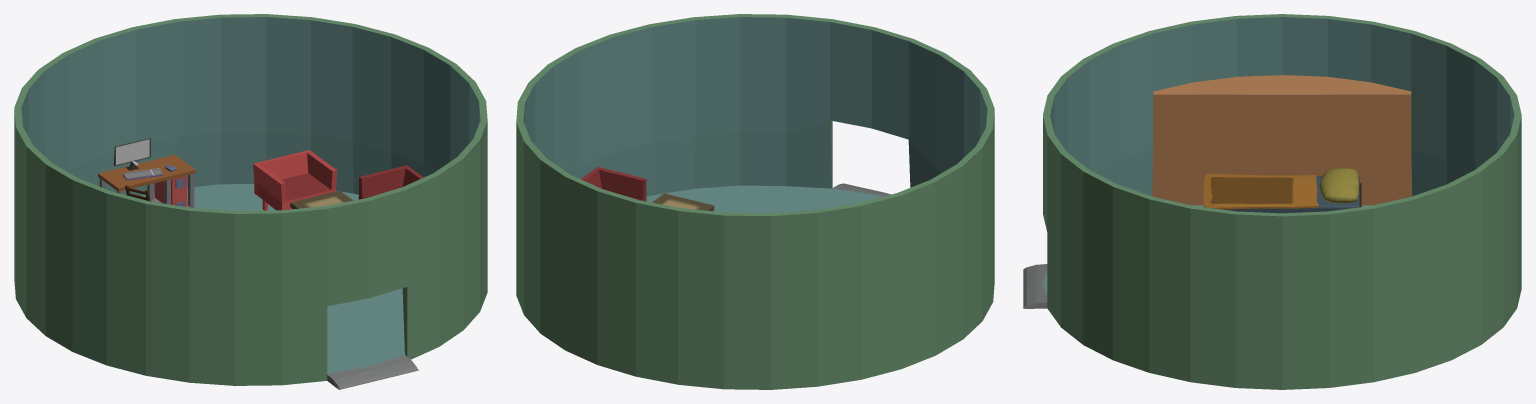
File: Indoor_Mesh.fbx
The picture shows the model from 3 angles, left to right: view 1: azimuth 30°, elevation 25°; view 2: azimuth 150°, elevation 25°; view 3: azimuth 270°, elevation 25°; orthographic projection.
Visible parts, largest first — view 1: HomeWall, Chair_TamuSmall, PC_Table, Chair_TamuBig, PC_Monitor, PC_CPU, Table_Tamu; view 2: HomeWall, Chair_TamuBig, Table_Tamu; view 3: HomeWall, Blanket, Pillow, Bed.
Boxes of the visible parts, x1,y1,x2,y2 form: HomeWall: [14, 14, 487, 389]; Chair_TamuSmall: [253, 150, 337, 210]; PC_Table: [98, 155, 195, 207]; Chair_TamuBig: [358, 165, 423, 199]; PC_Monitor: [113, 137, 150, 170]; PC_CPU: [154, 176, 187, 206]; Table_Tamu: [290, 190, 353, 209]; HomeWall: [516, 14, 994, 389]; Chair_TamuBig: [581, 167, 646, 201]; Table_Tamu: [652, 193, 714, 211]; HomeWall: [1023, 14, 1521, 389]; Blanket: [1203, 174, 1318, 209]; Pillow: [1319, 168, 1359, 203]; Bed: [1222, 176, 1361, 213].
Bounding box in the file's own units: 2.2 × 0.8817 × 2.29.
